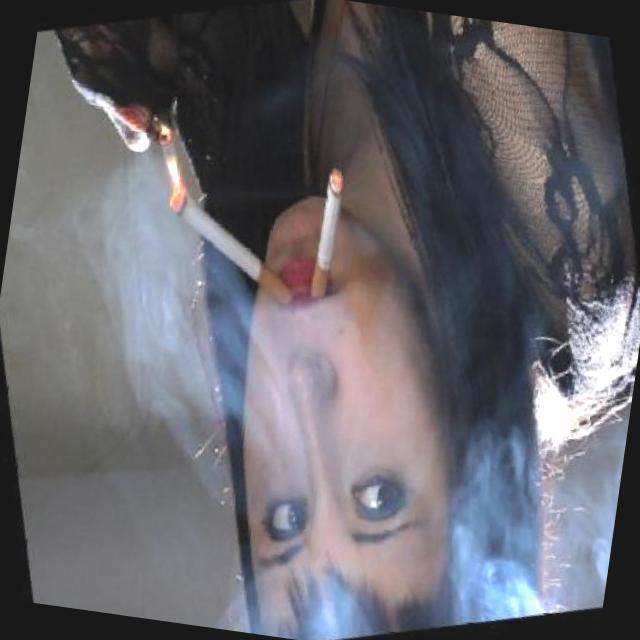smoke: (147, 158, 316, 344), (274, 160, 376, 312)
